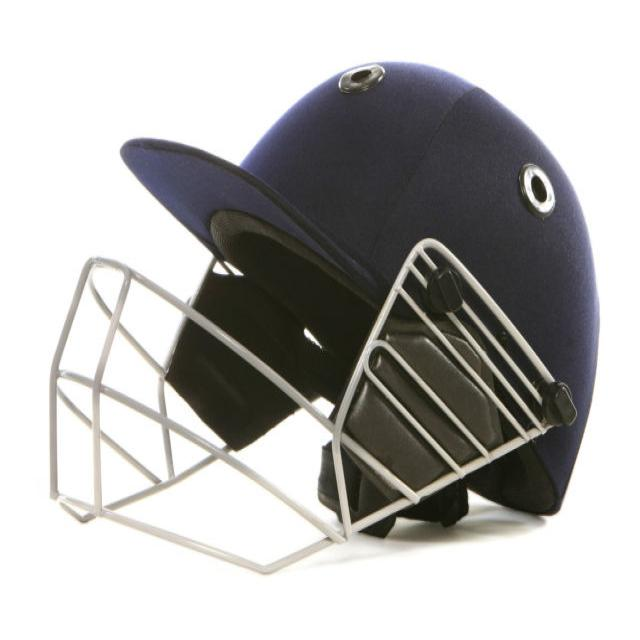Helmet: (22, 99, 613, 610)
